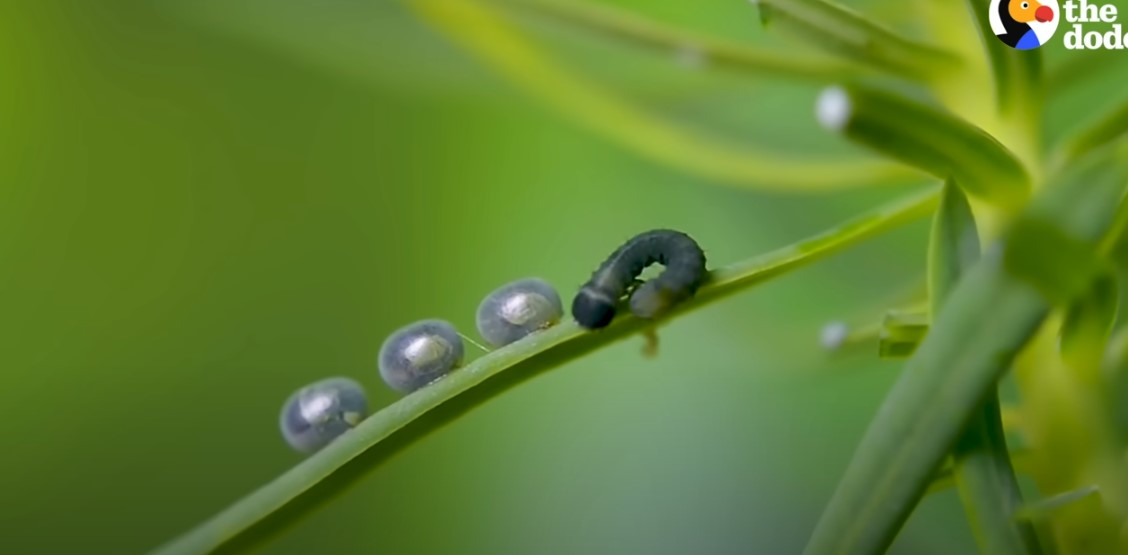Caterpillar: (570, 227, 708, 331)
